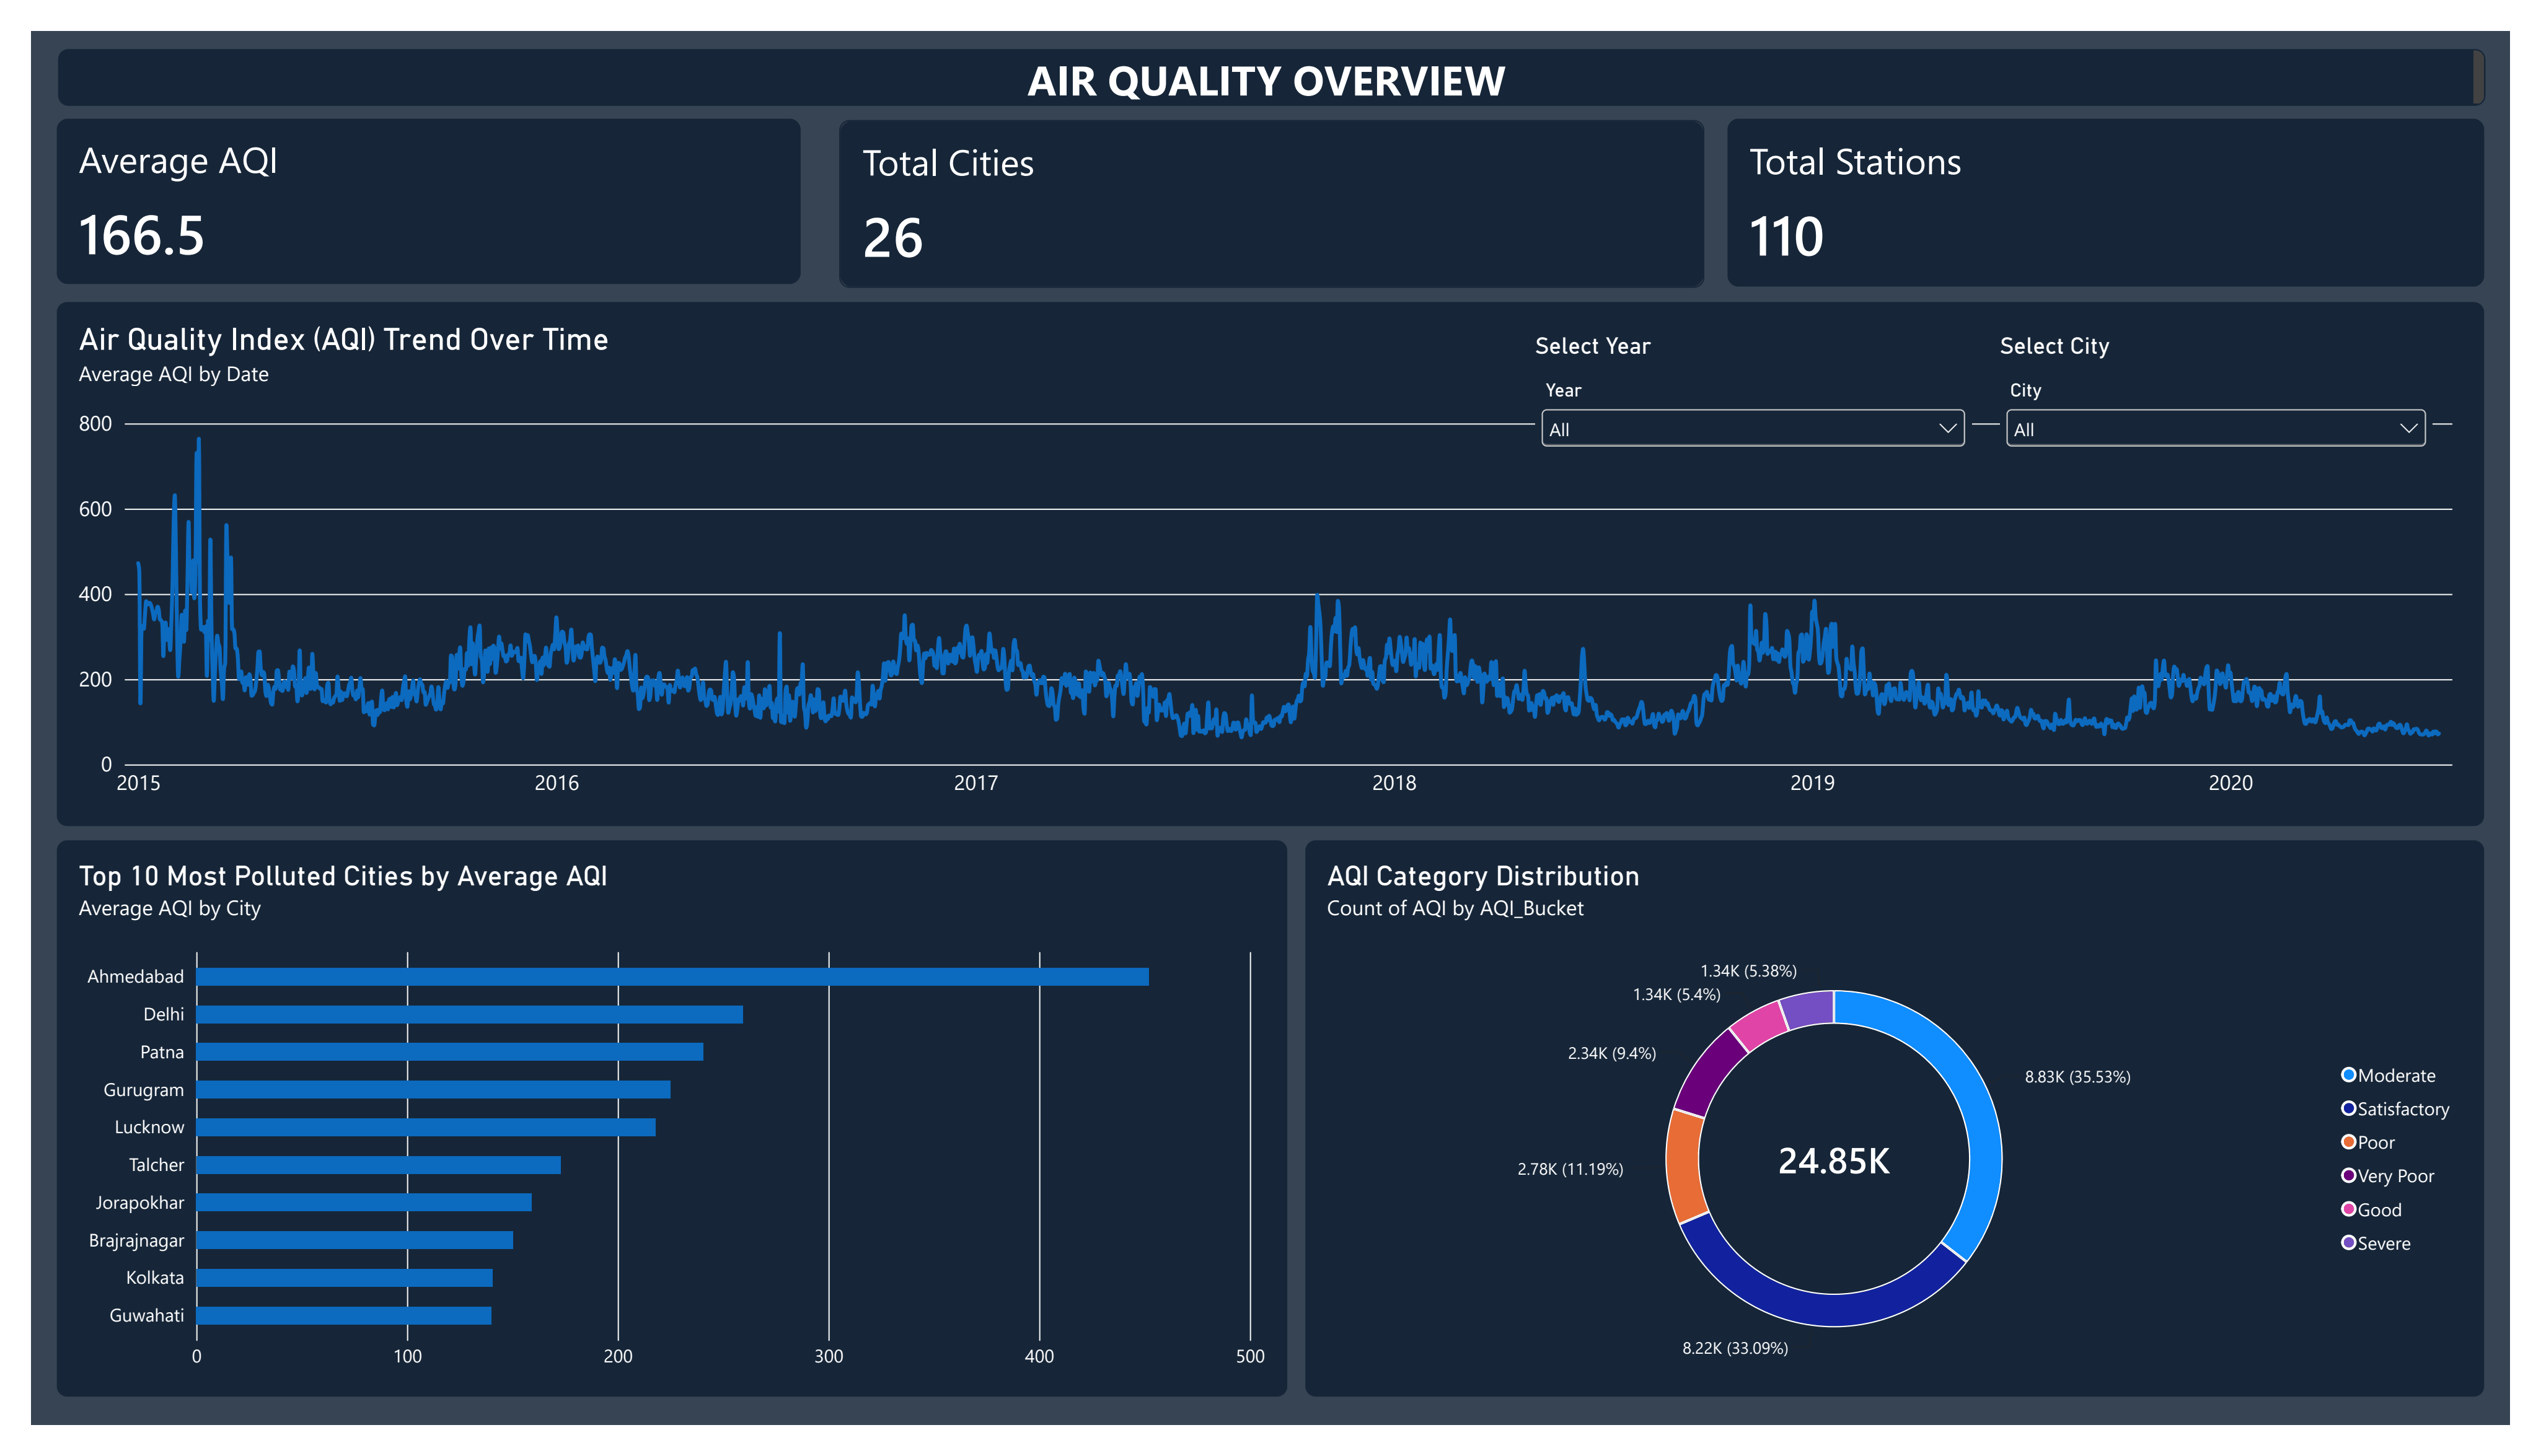

Layout of this report page (visuals, bound fields, positions):
{"tool":"powerbi","page":{"name":"Air Quality Overview","canvas":[1920,1080],"ordinal":0},"visuals":[{"type":"cardVisual","fields":{"Data":["gold_city_aqi_daily.Average AQI"]},"box":[20,68,576,128],"z":0},{"type":"cardVisual","fields":{"Data":["DimCity.Total Cities"]},"box":[626.2,68.8,670,130],"z":1000},{"type":"cardVisual","fields":{"Data":["DimCity.Total Stations"]},"box":[1314,68,586,130],"z":2000},{"type":"lineChart","title":"Air Quality Index (AQI) Trend Over Time","fields":{"Category":["DimDate.Date"],"Y":["gold_city_aqi_daily.Average AQI"]},"box":[20,210,1880,406],"z":3000},{"type":"clusteredBarChart","title":"Top 10 Most Polluted Cities by Average AQI","fields":{"Category":["DimCity.City"],"Y":["gold_city_aqi_daily.Average AQI"]},"box":[20,626.7,953.3,431.7],"z":4000},{"type":"donutChart","title":"AQI Category Distribution","fields":{"Category":["gold_city_aqi_daily.AQI_Bucket"],"Y":["CountNonNull(gold_city_aqi_daily.AQI)"]},"box":[986.7,626.7,913.3,431.7],"z":5000},{"type":"slicer","title":"Select City","fields":{"Values":["DimCity.City"]},"box":[1525,233.3,335,95],"z":6000},{"type":"slicer","title":"Select Year","fields":{"Values":["DimDate.Year"]},"box":[1165,233.3,338.3,95],"z":7000},{"type":"textbox","box":[21.1,14.4,1880,44],"z":8000}]}

Visuals, with their boxes on the page's 1920x1080 design canvas (x1, y1, x2, y2). These are canvas units, not pixel positions in the 2541x1456 screenshot, which may show the page scaled, cropped or inside an application window:
cardVisual - gold_city_aqi_daily.Average AQI: 20, 68, 596, 196
cardVisual - DimCity.Total Cities: 626, 69, 1296, 199
cardVisual - DimCity.Total Stations: 1314, 68, 1900, 198
"Air Quality Index (AQI) Trend Over Time" lineChart: 20, 210, 1900, 616
"Top 10 Most Polluted Cities by Average AQI" clusteredBarChart: 20, 627, 973, 1058
"AQI Category Distribution" donutChart: 987, 627, 1900, 1058
"Select City" slicer: 1525, 233, 1860, 328
"Select Year" slicer: 1165, 233, 1503, 328
textbox: 21, 14, 1901, 58
